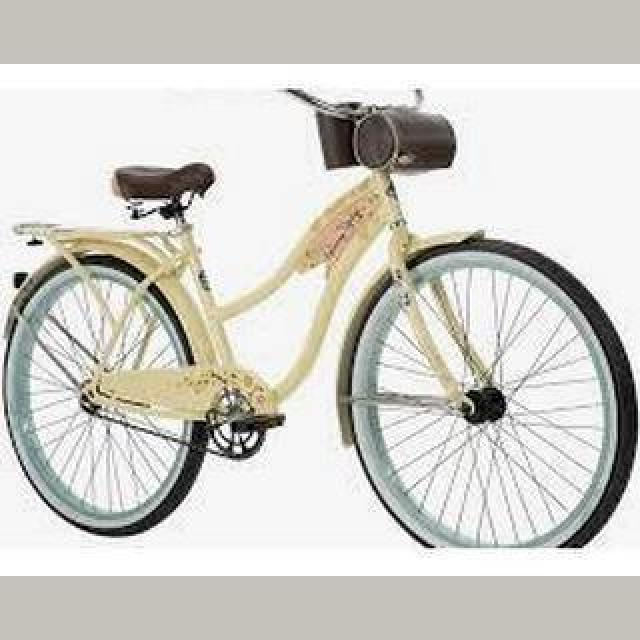Person: (0, 87, 640, 551)
